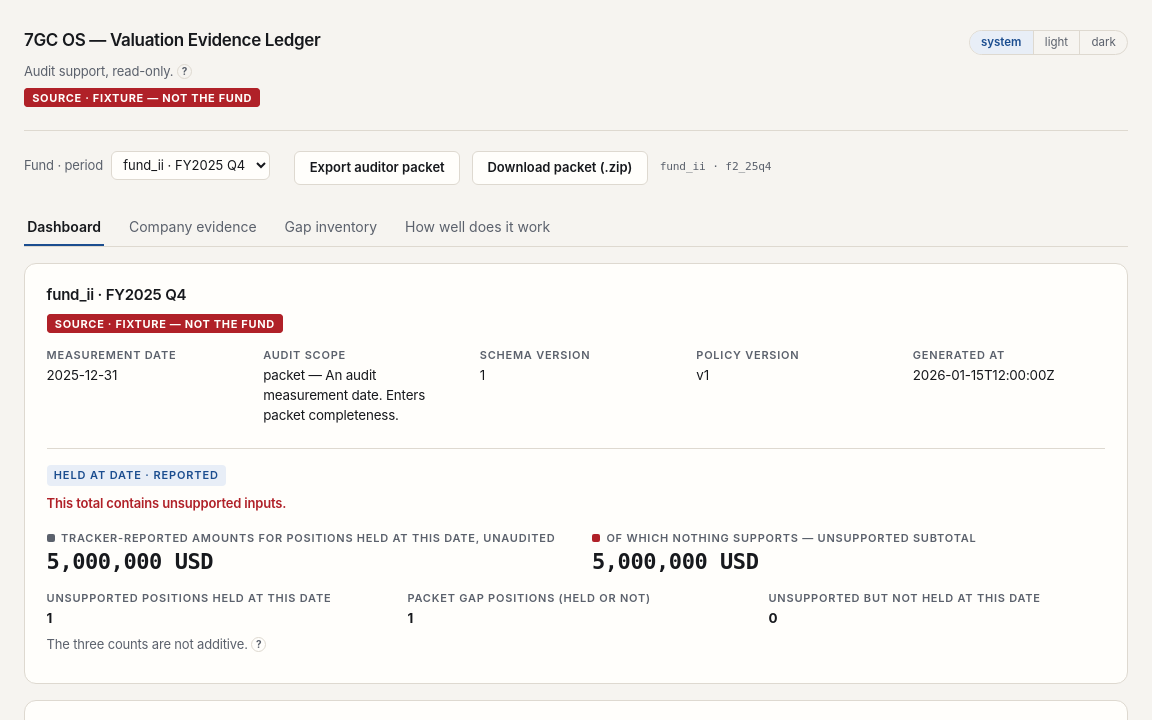
Test: App › moves between the three surfaces
Click the button "Gap inventory" at (331,228), box [281,209,380,246]
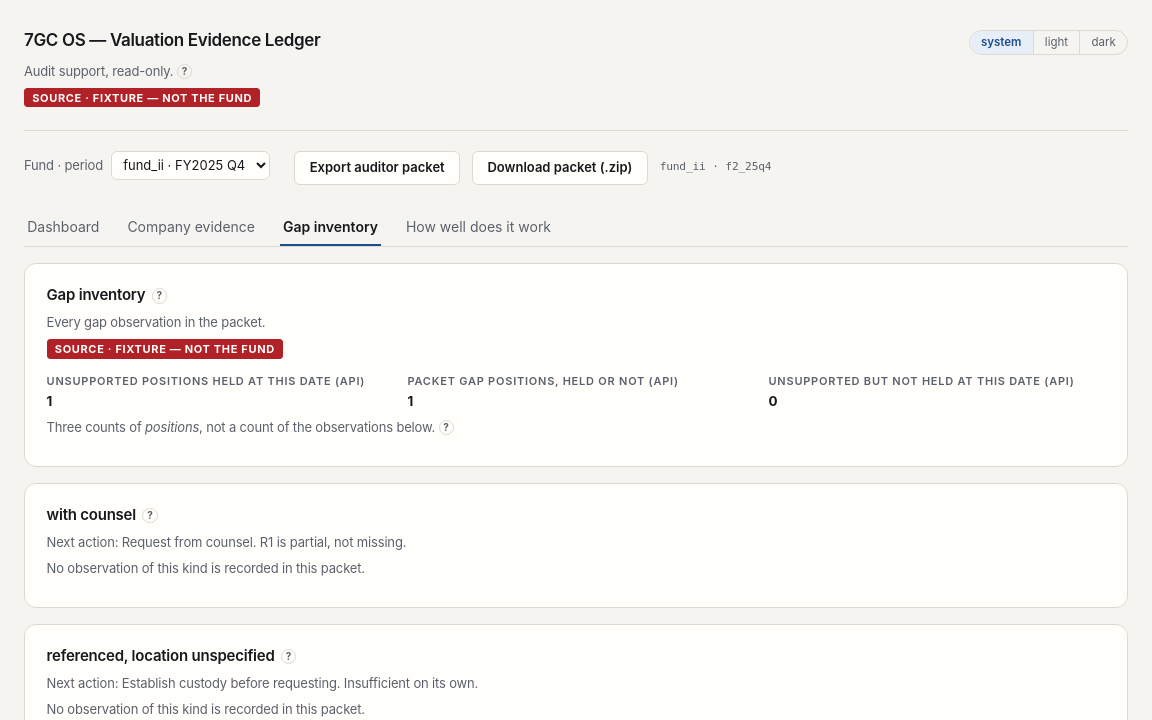
Result: the heading "Gap inventory" is shown at [47,284,145,307]
Click the button "Company evidence" at (191,228), box [124,209,258,246]
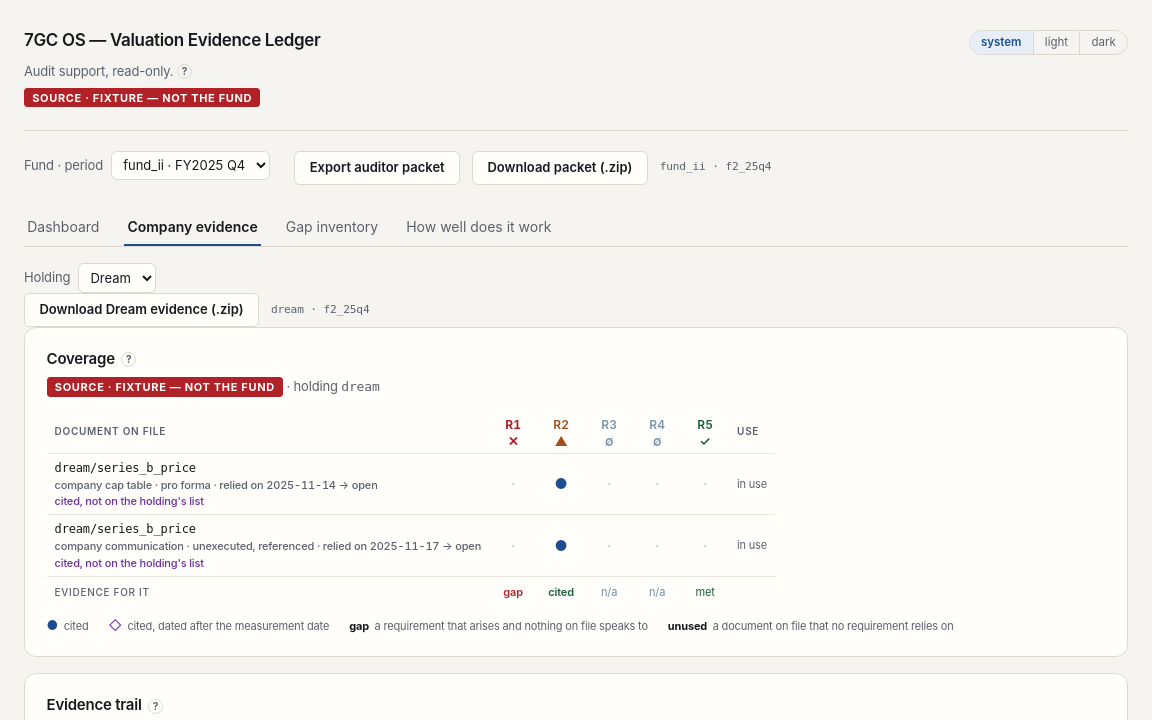
Click the button "Dashboard" at (63,228), box [24,209,103,246]
(page scrolled)
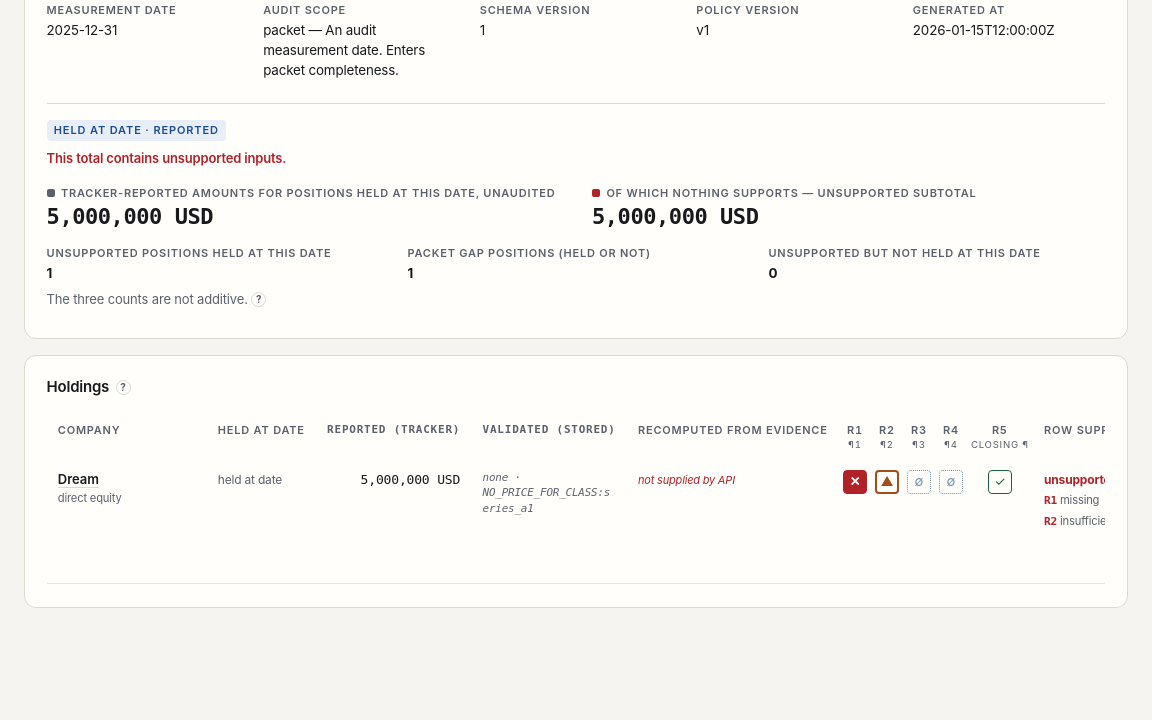
Result: the heading "Holdings" is shown at [47,376,109,398]
